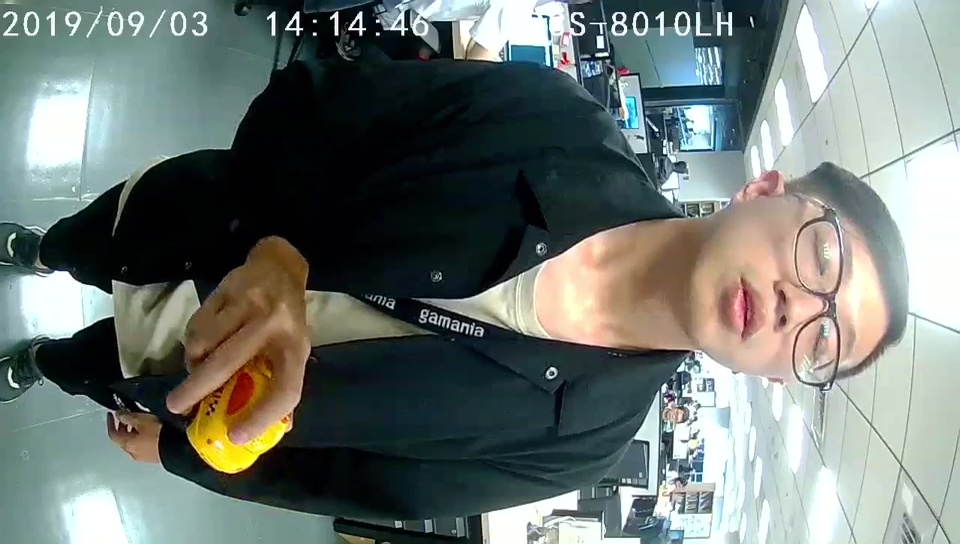car: (184, 363, 287, 472)
